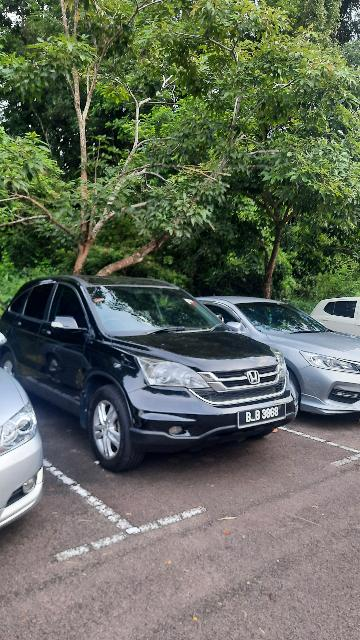License_Plate: (238, 402, 291, 432)
car: (2, 273, 301, 475), (191, 293, 360, 419)
